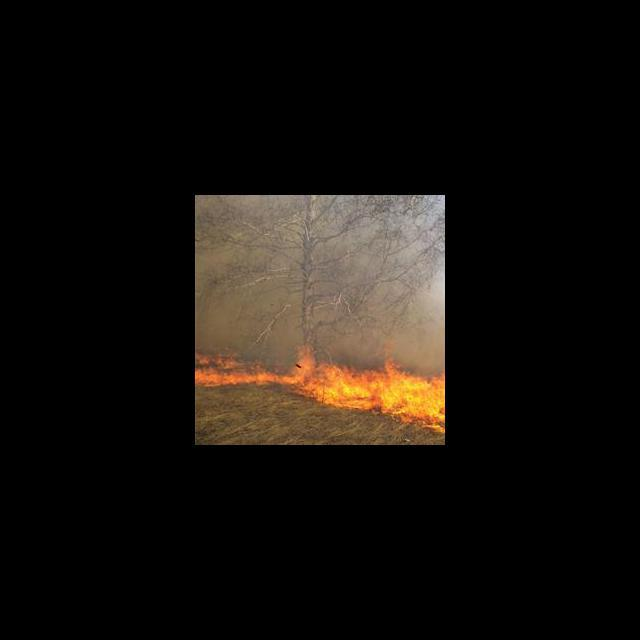Fire: (196, 345, 444, 432)
